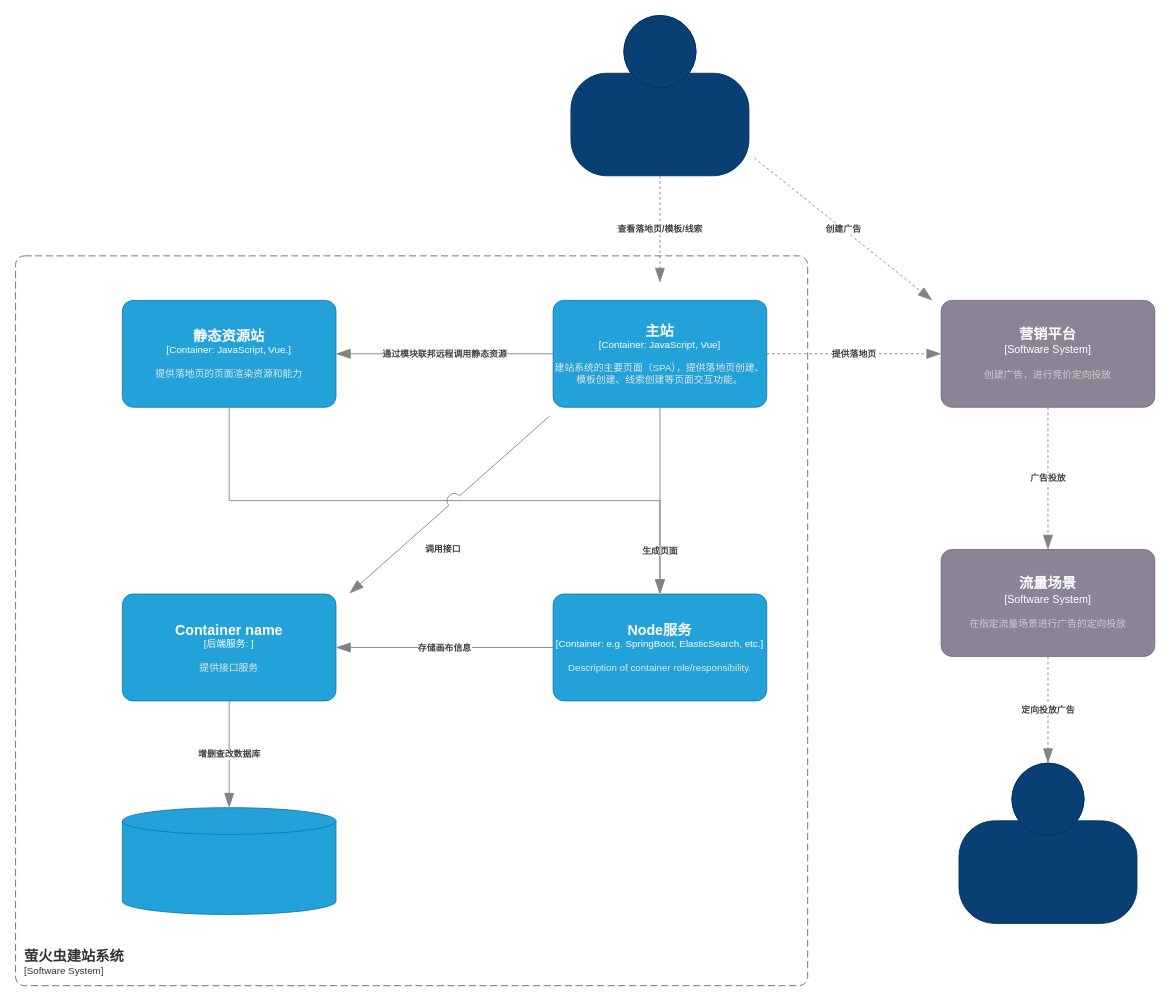
This 1170x1001 diagram has some shape labels left out. Here are the shapes that lost their labels. From the top down, the centre of each, then its label:
At point (659, 95): "广告主 [Person] 外部广告投放".
At point (228, 860): "OCS [Container: ] OPPO云存储".
At point (1047, 842): "用户 [Person] 广告定向人群".
